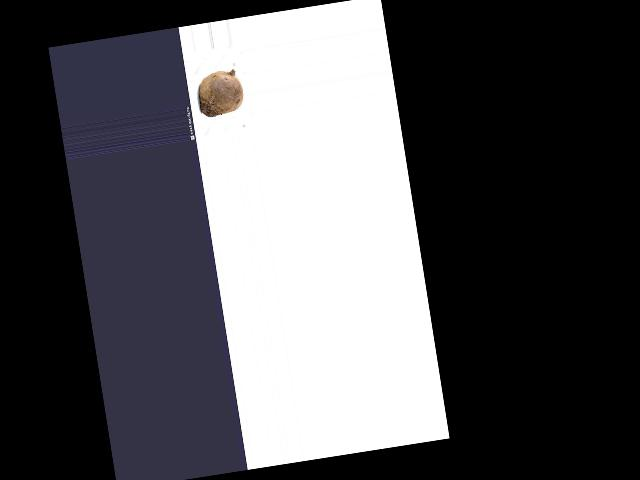beet: (194, 67, 245, 118)
